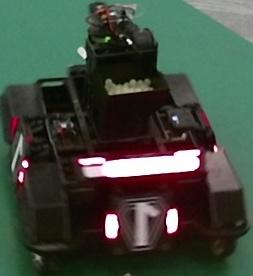armor_1: (104, 209, 179, 239)
light: (78, 149, 201, 178)
